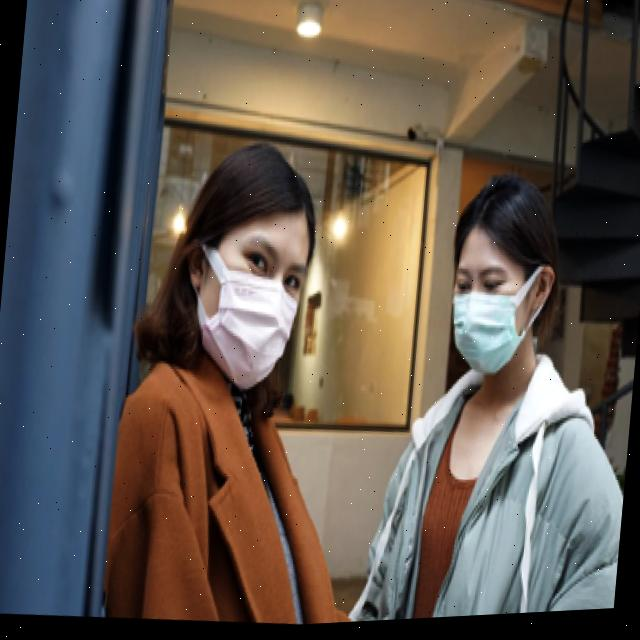Mask: (178, 238, 308, 404), (434, 273, 552, 390)
